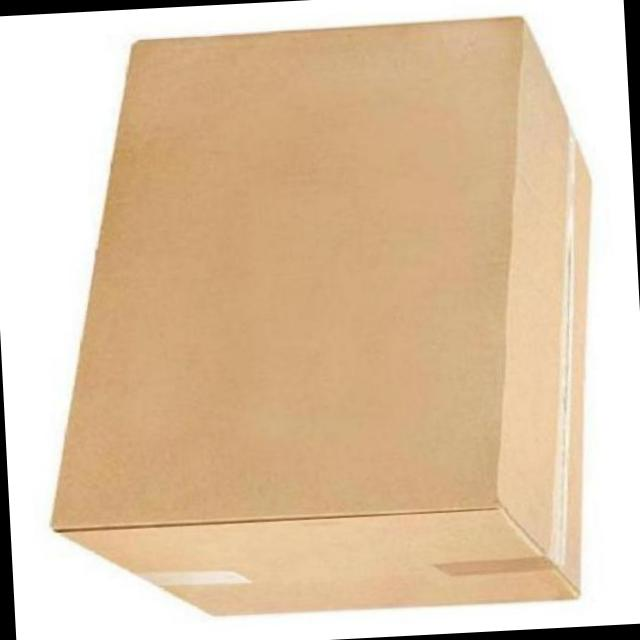box: (15, 5, 620, 633)
